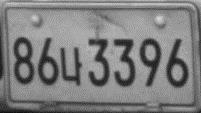3: (87, 38, 110, 87), (113, 38, 136, 86)
6: (165, 37, 189, 87), (37, 37, 58, 86)
8: (12, 36, 34, 84)
9: (138, 37, 162, 87)
나: (59, 46, 83, 86)
